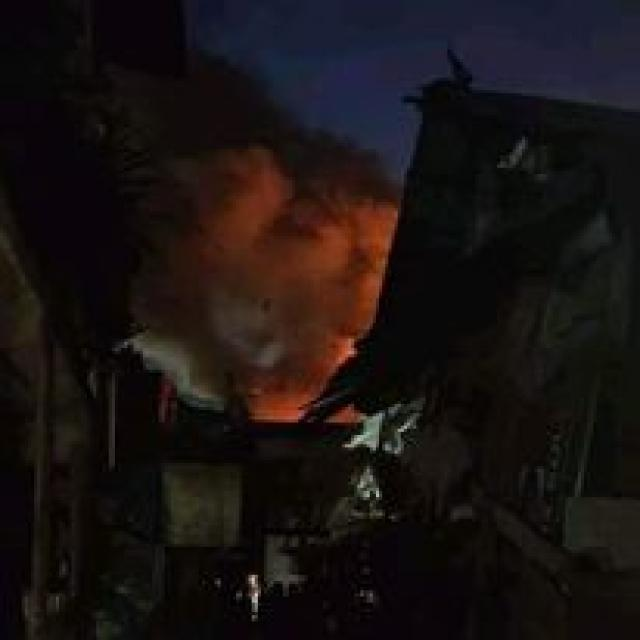Smoke: (111, 4, 406, 416)
